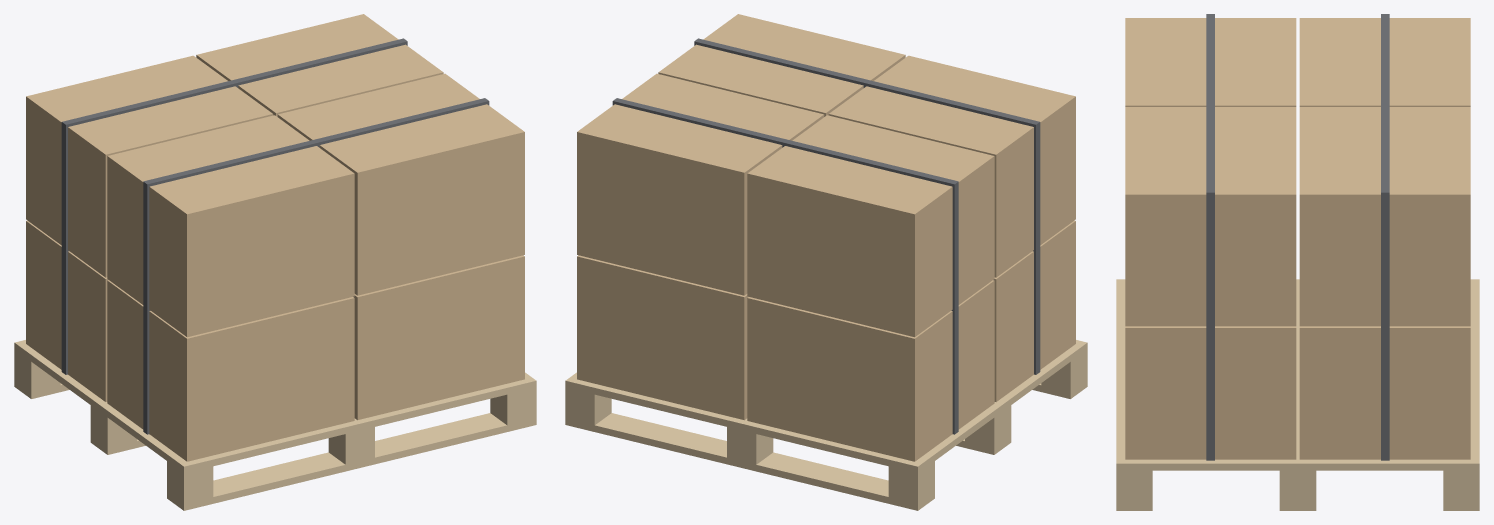
The model's file is palete_caixas.glb.
3 views of the same model, side by side, from view 1: azimuth 30°, elevation 25°; view 2: azimuth 150°, elevation 25°; view 3: azimuth 270°, elevation 25° (orthographic). The views are drawn at different scales.
Visible parts, largest first — view 1: corpo; view 2: corpo; view 3: corpo.
Boxes of the visible parts, <box> form: corpo: <box>14,14,536,510</box>; corpo: <box>565,14,1087,510</box>; corpo: <box>1116,14,1479,510</box>.
Bounding box in the file's own units: 1.2 × 0.958 × 1.
